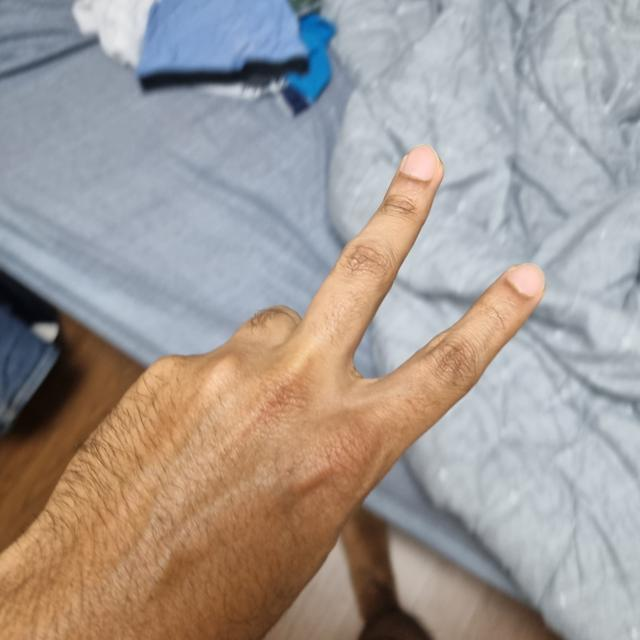Scissors: (2, 148, 546, 640)
